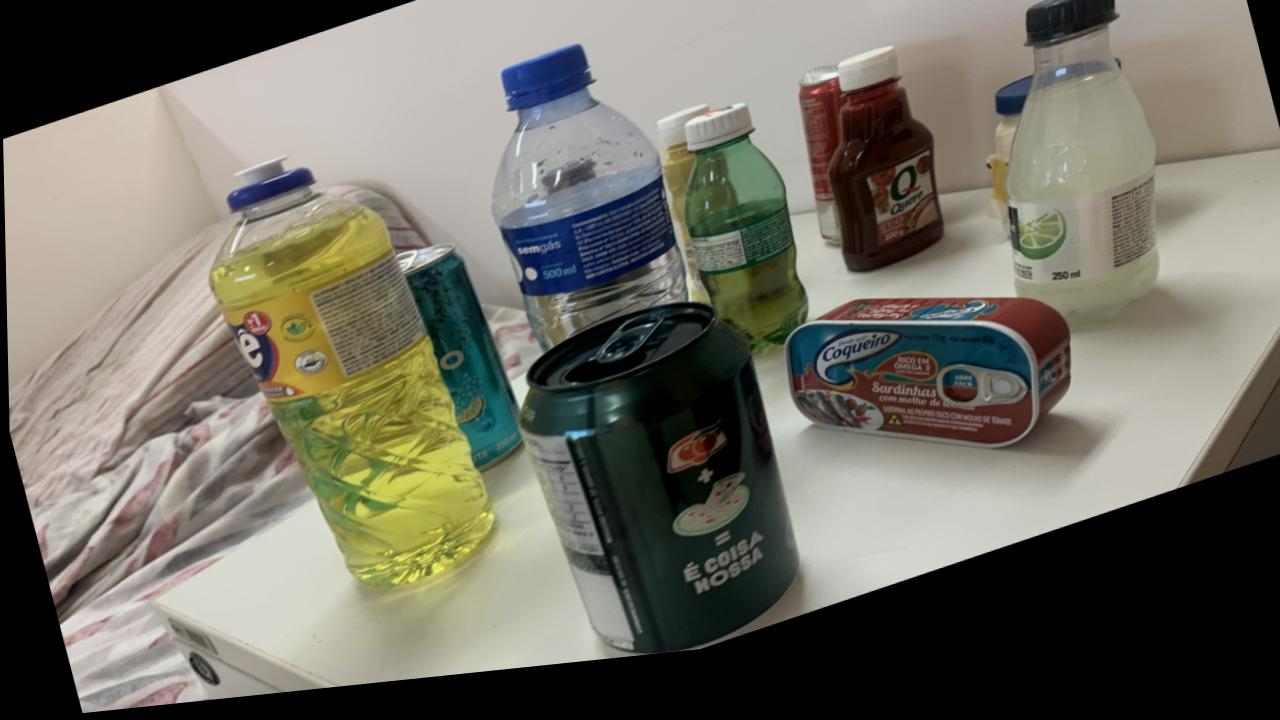Coke-Drinks: (796, 82, 842, 262)
Detergent-Cleanup_Items: (207, 166, 491, 594)
Guarana-Drinks: (681, 118, 807, 366)
Guarana_Can-Drinks: (517, 316, 796, 667)
Ketchup-Pantry_Items: (826, 65, 942, 290)
Mayonnaise-Pantry_Items: (984, 98, 1032, 255)
Mustard-Pantry_Items: (656, 119, 707, 315)
Soda-Drinks: (1003, 7, 1158, 342)
Tea-Drinks: (395, 253, 519, 480)
Tuna_Can-Pantry_Items: (783, 316, 1069, 469)
Water_Bottle-Drinks: (490, 57, 686, 361)
